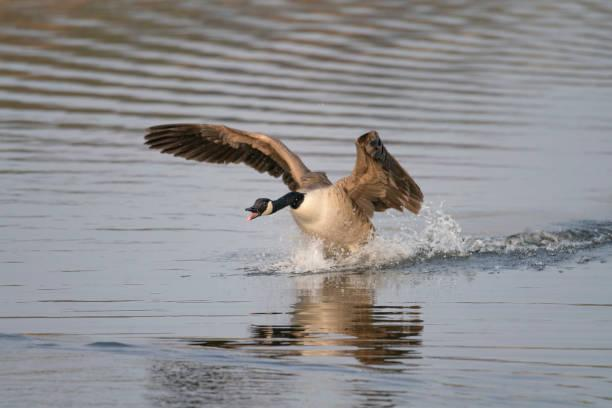Canadian-Goose: (141, 106, 427, 262)
